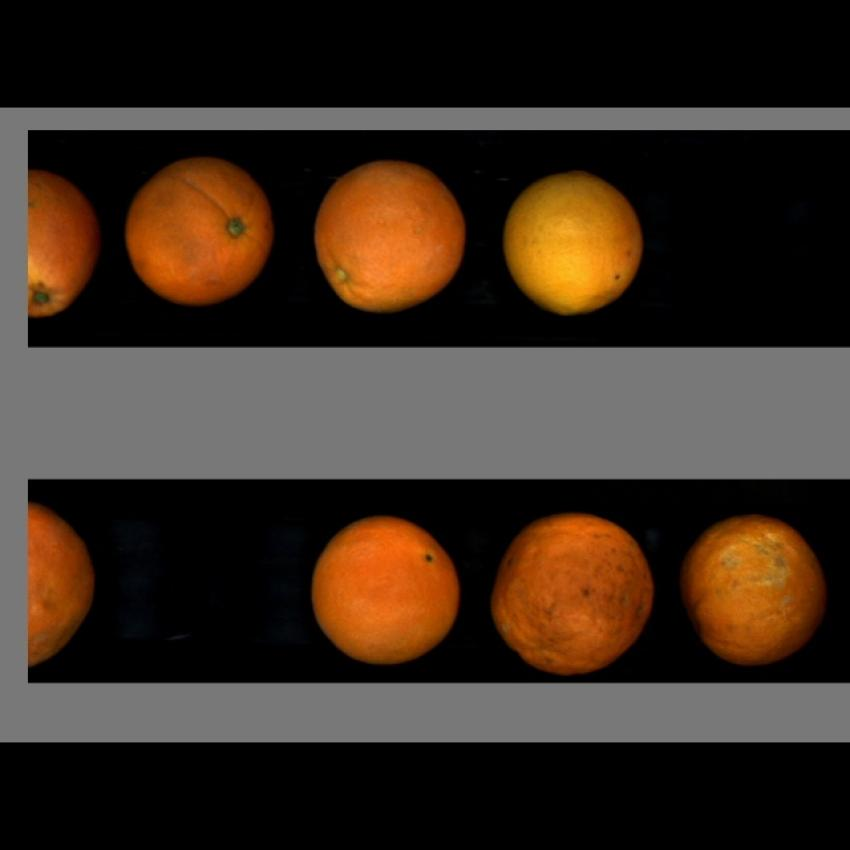Buen estado: (306, 508, 469, 668), (309, 154, 473, 312), (500, 169, 651, 319)
Mal estado: (489, 515, 662, 675), (121, 151, 282, 303), (681, 509, 831, 666), (29, 496, 105, 670), (30, 164, 105, 320)
